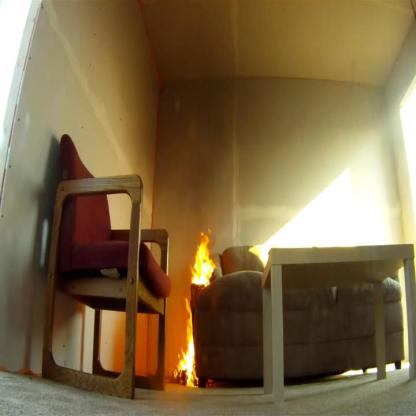fire: (175, 294, 201, 391), (188, 232, 217, 290)
